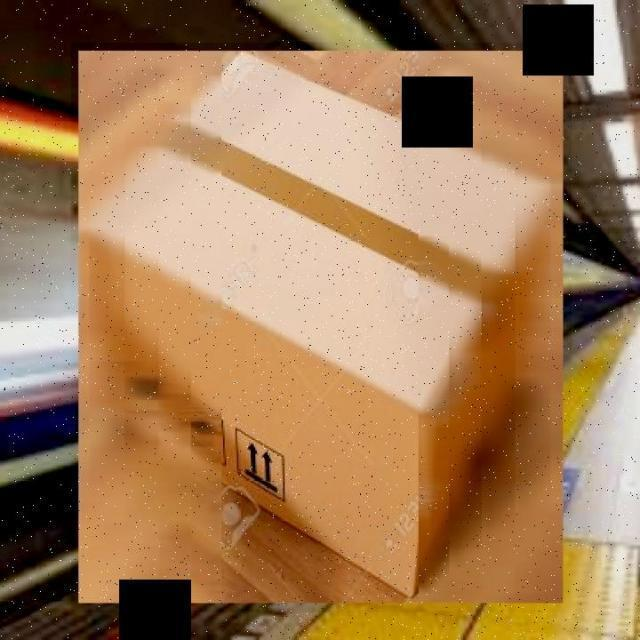box: (71, 42, 572, 612)
